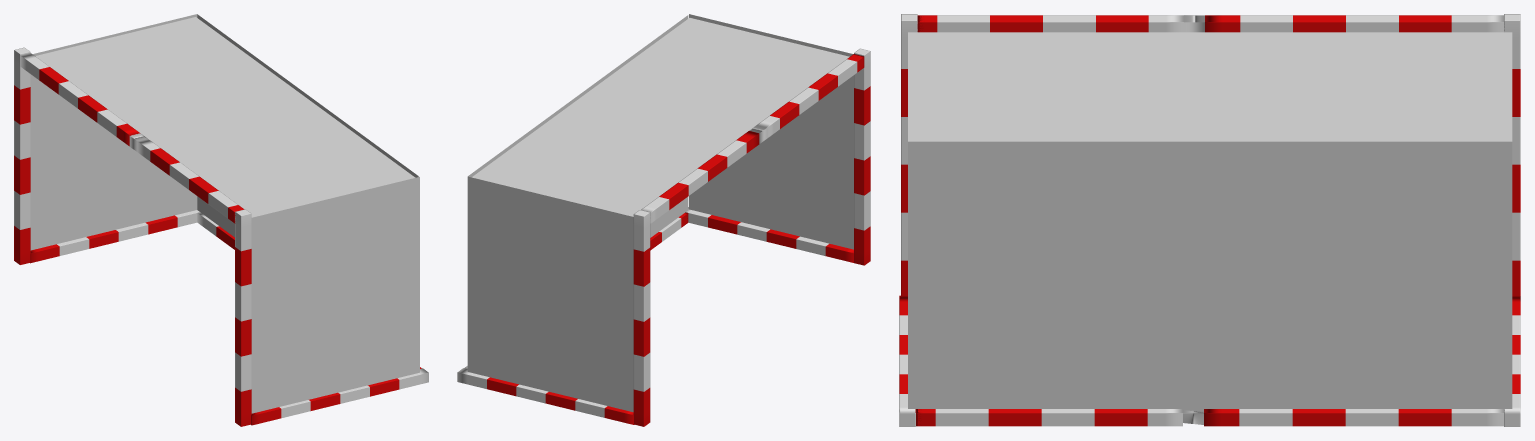
Rendered from Futsal Goal 1.glb.
3 renders of one model, left to right at view 1: azimuth 30°, elevation 25°; view 2: azimuth 150°, elevation 25°; view 3: azimuth 270°, elevation 25°, orthographic. The views are drawn at different scales.
Visible parts, largest first — view 1: Plane.007, Cube.006; view 2: Plane.007, Cube.006; view 3: Plane.007, Cube.006.
Part boxes in pixels (x1,y1,x2,y2): Plane.007: (30, 14, 419, 413); Cube.006: (14, 47, 428, 426); Plane.007: (467, 14, 853, 412); Cube.006: (457, 48, 870, 426); Plane.007: (908, 32, 1512, 411); Cube.006: (899, 14, 1520, 426).
Bounding box in the file's own units: 1.86 × 2.01 × 3.92.
